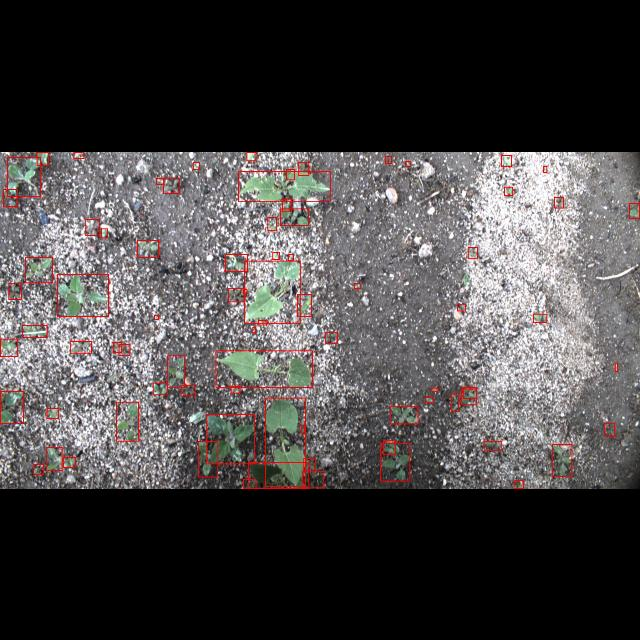crop: (216, 350, 312, 388), (265, 398, 305, 487), (244, 260, 300, 322), (238, 170, 330, 200), (249, 462, 309, 488), (296, 294, 312, 316)
weed: (207, 414, 255, 464), (58, 274, 109, 316), (8, 156, 40, 196), (380, 443, 410, 481), (115, 402, 138, 441), (198, 441, 218, 477), (1, 391, 23, 423), (26, 256, 52, 282), (552, 444, 572, 476), (168, 356, 185, 386), (390, 406, 418, 424), (280, 208, 308, 225), (225, 253, 247, 270), (46, 448, 62, 470), (137, 240, 159, 256), (302, 471, 324, 487), (22, 325, 48, 337), (1, 338, 18, 356), (70, 341, 92, 353), (3, 188, 17, 206), (85, 218, 99, 236), (8, 283, 22, 299), (163, 178, 179, 192), (228, 288, 244, 302), (462, 388, 476, 404), (152, 382, 168, 394), (484, 440, 502, 450), (304, 458, 316, 472), (383, 440, 395, 454), (629, 202, 639, 218), (605, 422, 615, 436), (38, 152, 48, 164), (63, 457, 75, 467), (118, 344, 130, 354), (182, 385, 194, 395), (282, 198, 292, 210), (325, 332, 337, 342), (299, 162, 309, 174), (501, 154, 511, 166), (464, 388, 476, 398), (242, 479, 255, 488), (533, 314, 547, 322), (468, 246, 477, 258), (452, 393, 458, 411), (268, 217, 276, 230), (48, 408, 58, 418), (33, 464, 43, 474), (554, 197, 564, 207), (286, 168, 294, 180), (112, 342, 121, 352), (514, 480, 524, 488), (247, 152, 256, 160), (505, 186, 513, 194), (74, 151, 84, 157), (230, 386, 240, 392), (101, 228, 107, 236), (156, 177, 164, 183), (192, 162, 200, 168), (386, 155, 392, 163), (458, 304, 466, 310), (614, 362, 618, 372), (273, 252, 279, 258), (288, 254, 294, 260), (354, 282, 360, 288), (301, 425, 305, 433), (258, 320, 266, 324), (425, 398, 433, 402), (406, 160, 410, 166), (432, 387, 438, 391), (543, 166, 547, 172), (252, 326, 255, 332), (155, 315, 159, 319), (243, 289, 247, 293)
